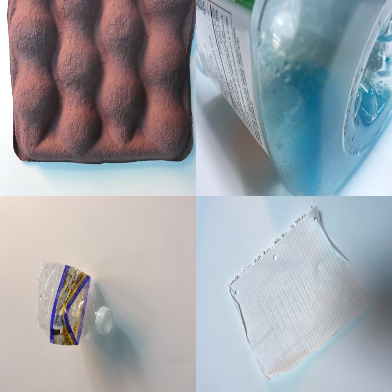cardboard: (6, 1, 194, 164)
paper: (228, 205, 373, 381)
plastic: (195, 1, 391, 195), (38, 262, 114, 346)
